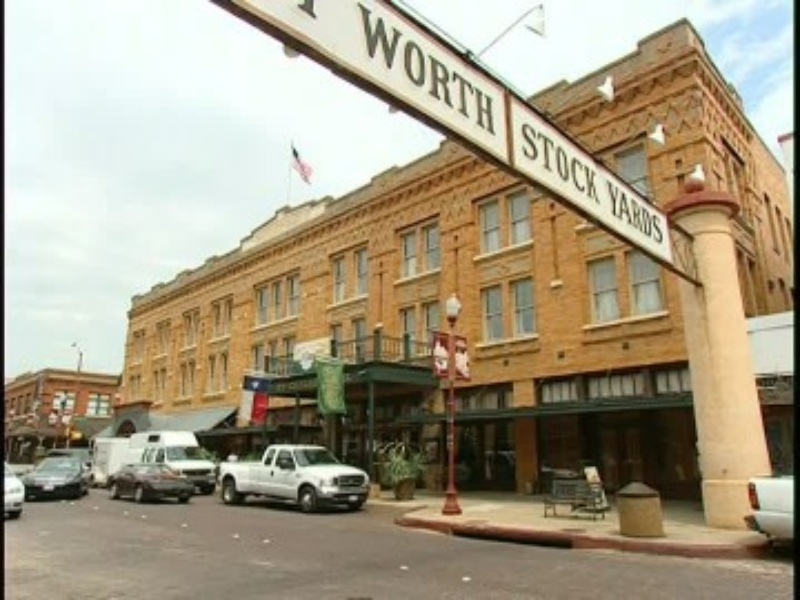text: (369, 1, 384, 138), (385, 1, 400, 138), (401, 1, 416, 138), (417, 1, 432, 138), (433, 1, 448, 138), (449, 1, 464, 138), (465, 1, 480, 138), (481, 1, 496, 138), (356, 1, 368, 138), (529, 118, 544, 205), (545, 118, 560, 205), (561, 118, 576, 205), (577, 118, 592, 205), (609, 176, 624, 245), (625, 176, 640, 245), (641, 176, 656, 245), (523, 118, 528, 205), (593, 118, 598, 205), (657, 176, 663, 245), (607, 176, 608, 245)
